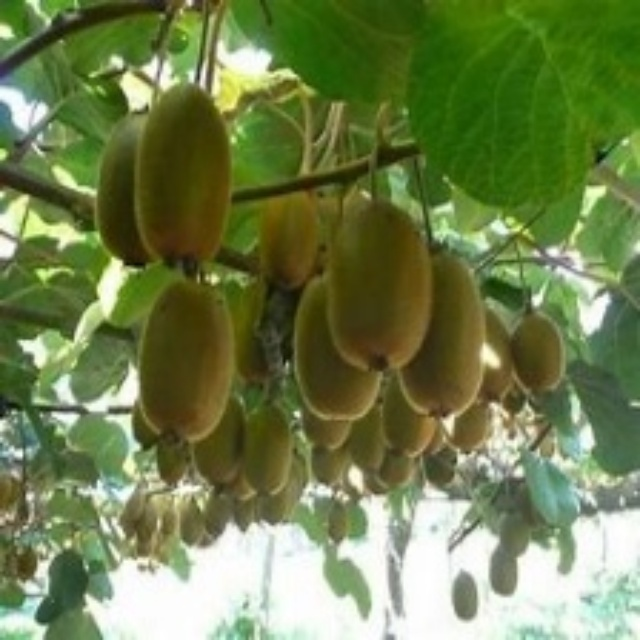kiwi: (335, 225, 480, 410), (134, 261, 233, 453), (137, 83, 231, 276), (90, 114, 181, 280), (206, 396, 299, 505), (264, 177, 317, 289), (510, 309, 568, 396)
